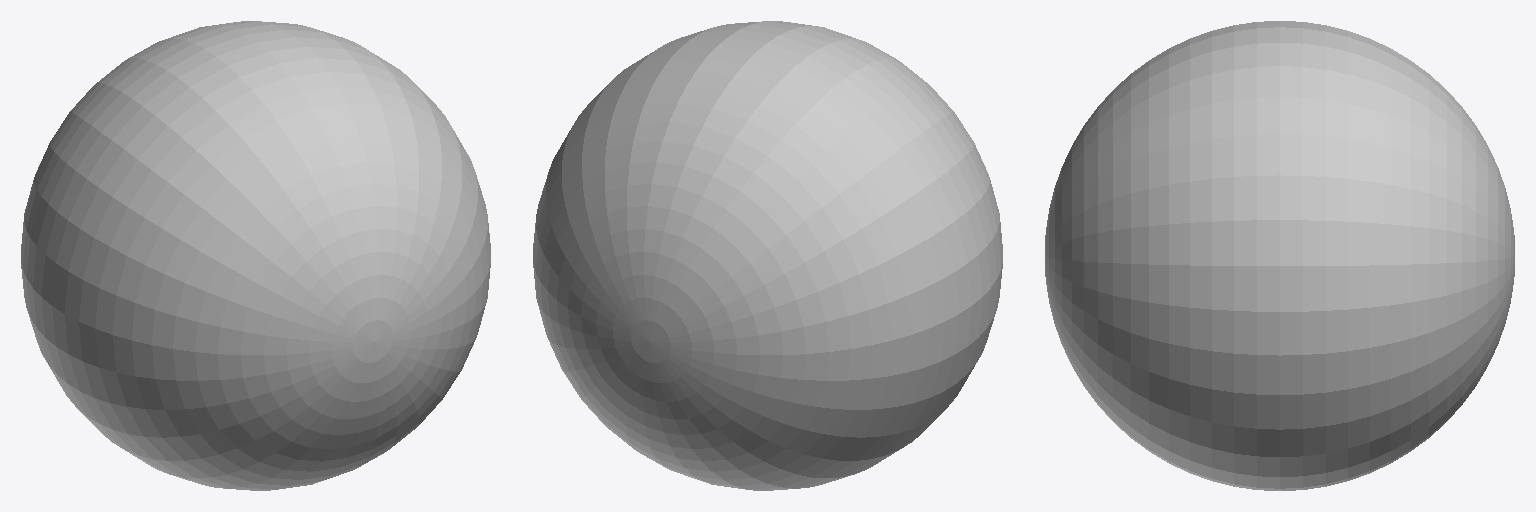
The model's file is moon.obj.
3 views of the same model, side by side, from view 1: azimuth 30°, elevation 25°; view 2: azimuth 150°, elevation 25°; view 3: azimuth 270°, elevation 25° (orthographic).
Size of the model in its own units: 1.11 by 1.11 by 1.11.